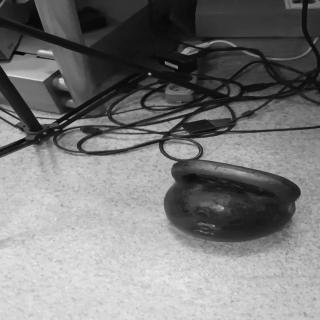kettlebell: (167, 160, 302, 244)
